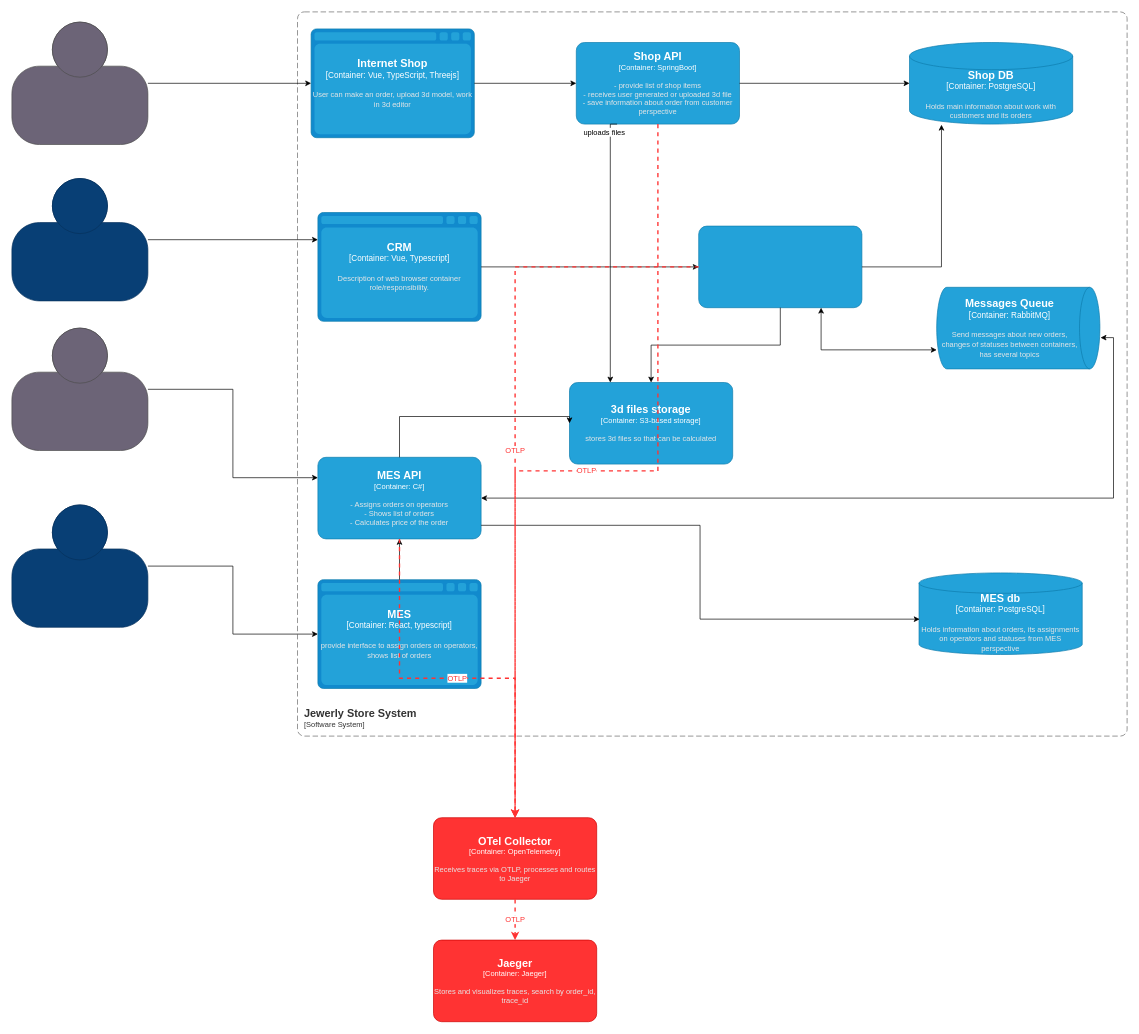
This 1139x1034 diagram has some shape labels left out. Here are the shapes that lost their labels. From the top down, the centre of each, then its label:
At point 79,82: "Customer [Person] Description of external person.".
At point 79,239: "Seller [Person] Operates with order, confirms manufacturing for the user".
At point 780,266: "CRM API [Container: SpringBoot] Description of container role/responsibility.".
At point 79,389: "API user [Person] Description of external person.".
At point 79,565: "Operator [Person] Takes order in work, manufactures jewerly".
